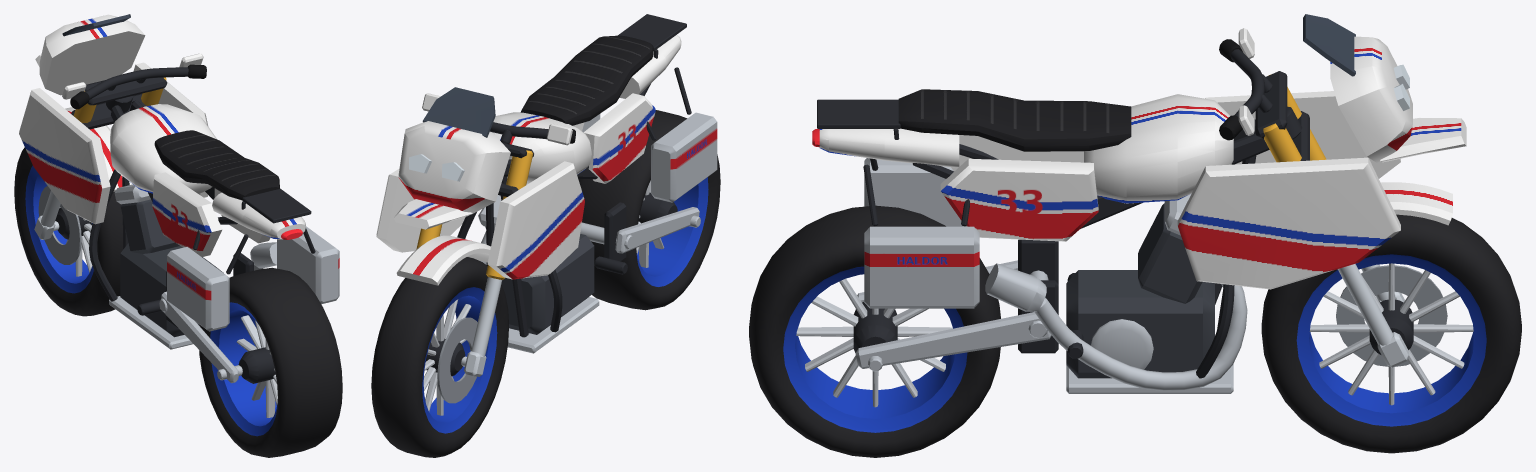
File: MotorcycleTag_Adventure.glb
3 renders of one model, left to right at view 1: azimuth 30°, elevation 25°; view 2: azimuth 150°, elevation 25°; view 3: azimuth 270°, elevation 25°, orthographic. The views are drawn at different scales.
Parts seen in each view (by area): view 1: Bodywork, RearWheel, FrontWheel, Panniers, Engine, Frame, Seat, Fork, Handlebars, Swingarm, Exhaust, FrontFender (+1 smaller); view 2: Bodywork, FrontWheel, RearWheel, Seat, Frame, Panniers, Engine, Fork, FrontFender, Windshield, Swingarm, Handlebars (+1 smaller); view 3: Bodywork, FrontWheel, RearWheel, Engine, Panniers, Frame, Seat, Exhaust, Fork, Swingarm, Handlebars, FrontFender (+1 smaller).
Boxes of the visible parts, box(x1,y1,x2,y2) form: Bodywork: box(19, 14, 305, 256); RearWheel: box(199, 267, 342, 457); FrontWheel: box(14, 147, 122, 316); Panniers: box(167, 226, 339, 331); Engine: box(114, 184, 223, 337); Frame: box(89, 96, 311, 349); Seat: box(154, 130, 279, 200); Fork: box(34, 68, 167, 239); Handlebars: box(62, 53, 206, 109); Swingarm: box(159, 291, 242, 383); Exhaust: box(250, 242, 276, 270); FrontFender: box(65, 107, 132, 191); Bodywork: box(376, 35, 681, 279); FrontWheel: box(371, 257, 508, 457); RearWheel: box(578, 109, 720, 310); Seat: box(520, 35, 653, 125); Frame: box(457, 14, 686, 353); Panniers: box(582, 67, 717, 202); Engine: box(478, 195, 594, 334); Fork: box(416, 142, 533, 376); FrontFender: box(396, 235, 490, 285); Windshield: box(422, 87, 495, 137); Swingarm: box(580, 207, 700, 253); Handlebars: box(422, 93, 575, 145); Bodywork: box(819, 36, 1466, 289); FrontWheel: box(1261, 214, 1521, 453); RearWheel: box(749, 205, 1000, 457); Engine: box(1066, 194, 1214, 378); Panniers: box(863, 158, 979, 308); Frame: box(817, 99, 1302, 393); Seat: box(898, 89, 1131, 151); Exhaust: box(985, 263, 1247, 390); Fork: box(1255, 71, 1409, 367); Swingarm: box(855, 260, 1051, 371); Handlebars: box(1219, 28, 1272, 140); FrontFender: box(1381, 182, 1452, 225).
Size of the model in its own units: 2.3 by 4.99 by 8.31.
Materials: 1 (1 with a texture image).
